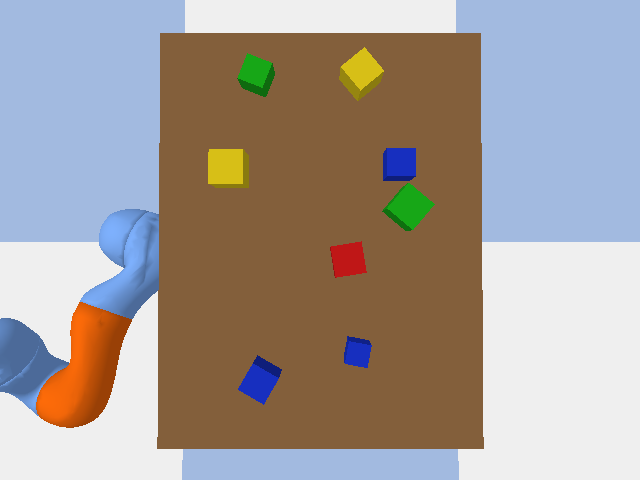blue_obj: (238, 355, 281, 404), (383, 148, 415, 180), (344, 336, 371, 367)
green_obj: (382, 183, 434, 230), (237, 53, 274, 96)
red_obj: (330, 241, 366, 277)
yellow_obj: (339, 47, 383, 100), (208, 149, 248, 187)
